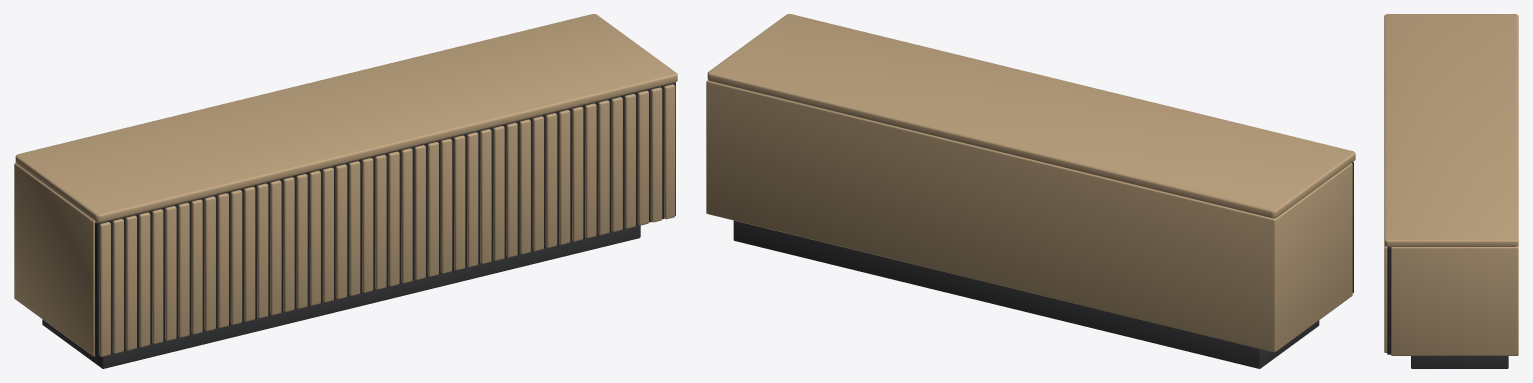
File: tvstand.glb
3 renders of one model, left to right at view 1: azimuth 30°, elevation 25°; view 2: azimuth 150°, elevation 25°; view 3: azimuth 270°, elevation 25°, orthographic. The views are drawn at different scales.
Visible parts, largest first — view 1: top, door_bed, body, plinth, rib18, rib42, rib26, rib34, rib10, rib3, rib16, rib17 (+36 smaller); view 2: body, top, plinth; view 3: top, body, plinth, door_bed, rib43.
Boxes of the visible parts, x1,y1,x2,y2 form: top: (15,14,677,222); door_bed: (95,82,675,356); body: (14,163,95,356); plinth: (42,225,640,368); rib18: (335,164,347,299); rib42: (650,87,662,222); rib26: (440,138,452,273); rib34: (545,113,557,247); rib10: (230,190,242,324); rib3: (139,212,150,347); rib16: (309,170,320,305); rib17: (322,167,333,302); body: (706,80,1352,352); top: (707,14,1355,218); plinth: (733,220,1319,368); top: (1384,14,1518,246); body: (1391,245,1518,355); plinth: (1411,356,1508,368); door_bed: (1387,247,1390,354); rib43: (1384,245,1387,352).
Bounding box in the file's own units: 1.6 × 0.45 × 0.4.
